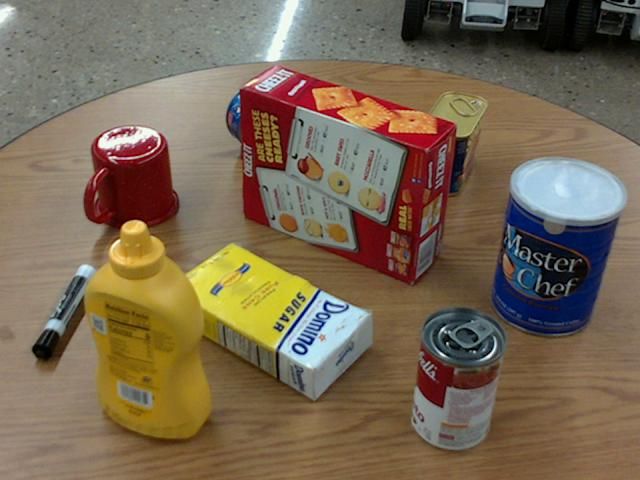cracker_box: (239, 67, 454, 283)
gelatin_box: (517, 167, 608, 240)
large_marker: (32, 264, 95, 356)
master_chef_can: (491, 156, 624, 336)
mug: (84, 126, 178, 228)
mustard_bottle: (82, 220, 208, 436)
potted_meat_can: (420, 91, 487, 194)
sugar_box: (167, 241, 371, 400)
tomato_soup_can: (411, 307, 505, 451)
tuna_fish_can: (225, 79, 297, 152)
